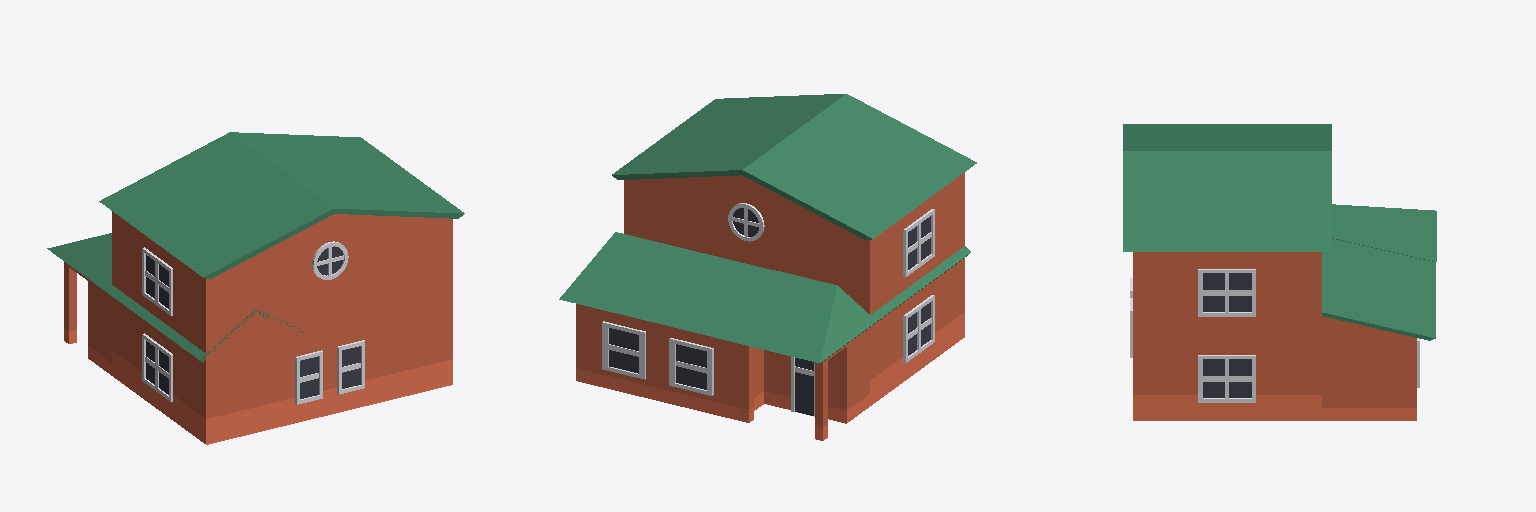
3 views of the same model, side by side, from view 1: azimuth 30°, elevation 25°; view 2: azimuth 150°, elevation 25°; view 3: azimuth 270°, elevation 25° (orthographic).
Visible parts, largest first — view 1: block_69, roof_73, roof_corner_70, block_columns_68, window_double_82, window_wide_76, window_wide_77, window_round_detail_81; view 2: roof_73, block_69, roof_half_65, roof_corner_70, block_63, block_columns_68, window_double_72, window_wide_76, window_wide_77, door_71, window_round_detail_80; view 3: roof_73, block_69, roof_half_65, block_63, roof_corner_70, window_wide_83, window_wide_84.
Boxes of the visible parts, x1=… form: block_69: x1=112, y1=211, x2=452, y2=444; roof_73: x1=99, y1=132, x2=464, y2=278; roof_corner_70: x1=47, y1=233, x2=303, y2=362; block_columns_68: x1=64, y1=262, x2=111, y2=375; window_double_82: x1=295, y1=340, x2=364, y2=404; window_wide_76: x1=142, y1=247, x2=172, y2=315; window_wide_77: x1=142, y1=333, x2=172, y2=401; window_round_detail_81: x1=312, y1=241, x2=348, y2=279; roof_73: x1=612, y1=94, x2=976, y2=240; block_69: x1=624, y1=173, x2=964, y2=405; roof_half_65: x1=559, y1=232, x2=770, y2=336; roof_corner_70: x1=714, y1=246, x2=970, y2=362; block_63: x1=576, y1=304, x2=763, y2=420; block_columns_68: x1=741, y1=328, x2=869, y2=440; window_double_72: x1=602, y1=321, x2=713, y2=395; window_wide_76: x1=903, y1=209, x2=934, y2=277; window_wide_77: x1=903, y1=295, x2=934, y2=362; door_71: x1=791, y1=357, x2=814, y2=416; window_round_detail_80: x1=728, y1=203, x2=764, y2=241; roof_73: x1=1123, y1=124, x2=1331, y2=251; block_69: x1=1133, y1=252, x2=1321, y2=420; roof_half_65: x1=1322, y1=239, x2=1435, y2=340; block_63: x1=1322, y1=335, x2=1416, y2=420; roof_corner_70: x1=1332, y1=204, x2=1436, y2=261; window_wide_83: x1=1198, y1=355, x2=1255, y2=402; window_wide_84: x1=1198, y1=269, x2=1255, y2=316.
Size of the model in its own units: 3.2 by 2.44 by 3.31.